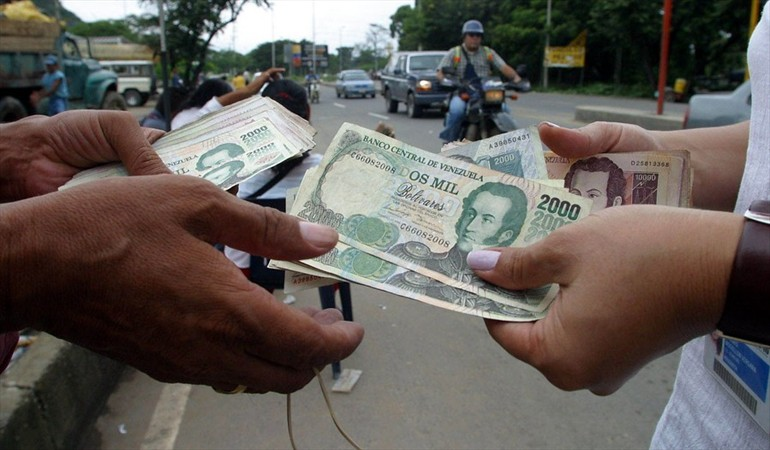billete: (266, 124, 593, 322), (55, 94, 321, 193), (545, 146, 698, 212)
